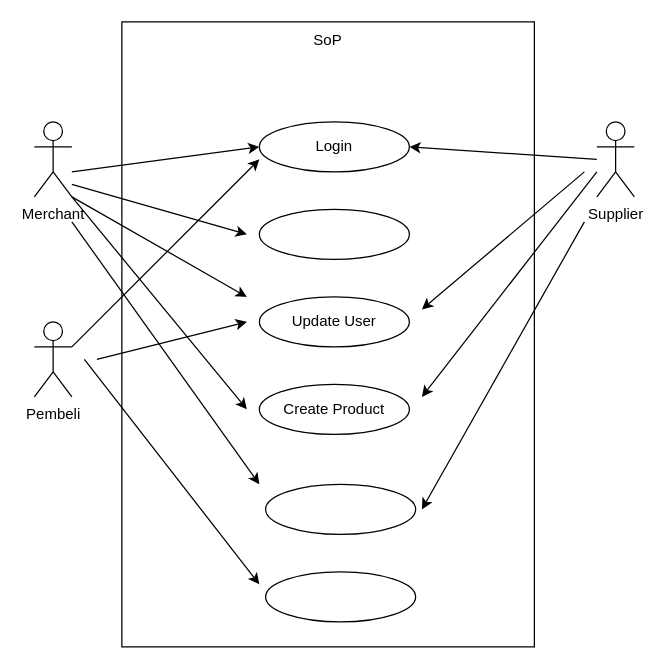
The diagram is 664 pixels wide and 669 high, and some of its shapes have lost their labels. Each missing label, with the centre of its shape:
Create Outlet: point 333,233
Transaksi Beli: point 340,596
Transaksi Jual: point 340,508
